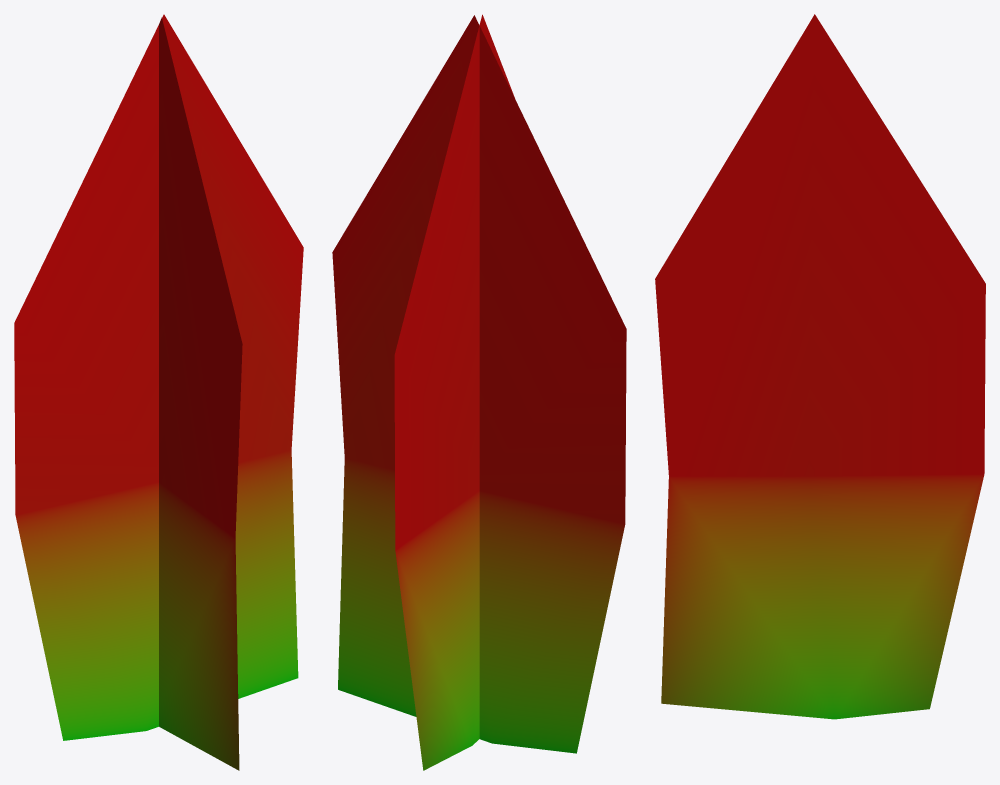
Rendered from Kikuyu Grass_LOD6_Var17_wiljearqx.fbx.
3 renders of one model, left to right at view 1: azimuth 30°, elevation 25°; view 2: azimuth 150°, elevation 25°; view 3: azimuth 270°, elevation 25°, orthographic. The views are drawn at different scales.
Visible parts, largest first — view 1: _86mr_Var17_LOD6; view 2: _86mr_Var17_LOD6; view 3: _86mr_Var17_LOD6.
Part boxes in pixels (x1,y1,x2,y2): _86mr_Var17_LOD6: (14, 14, 303, 770); _86mr_Var17_LOD6: (332, 14, 626, 770); _86mr_Var17_LOD6: (655, 14, 985, 719).
Size of the model in its own units: 5.28 by 12.43 by 5.28.
